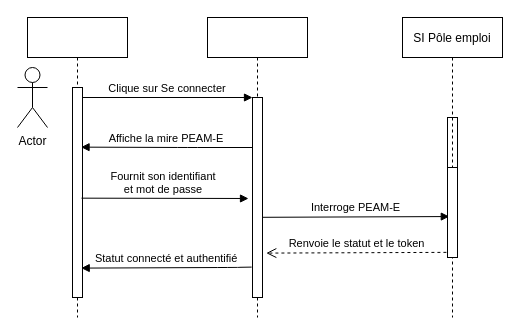
Some shapes in this 520 by 335 pixel diagram are drawn without their labels. Each missing label, with the box of its shape:
Je Recrute: (206, 16, 308, 318)
Recruteur: (26, 16, 128, 318)
